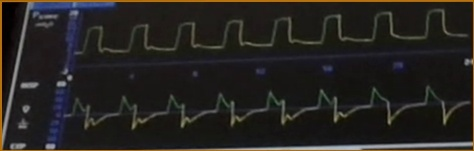Premature_cycling Flow: (67, 84, 469, 141)
